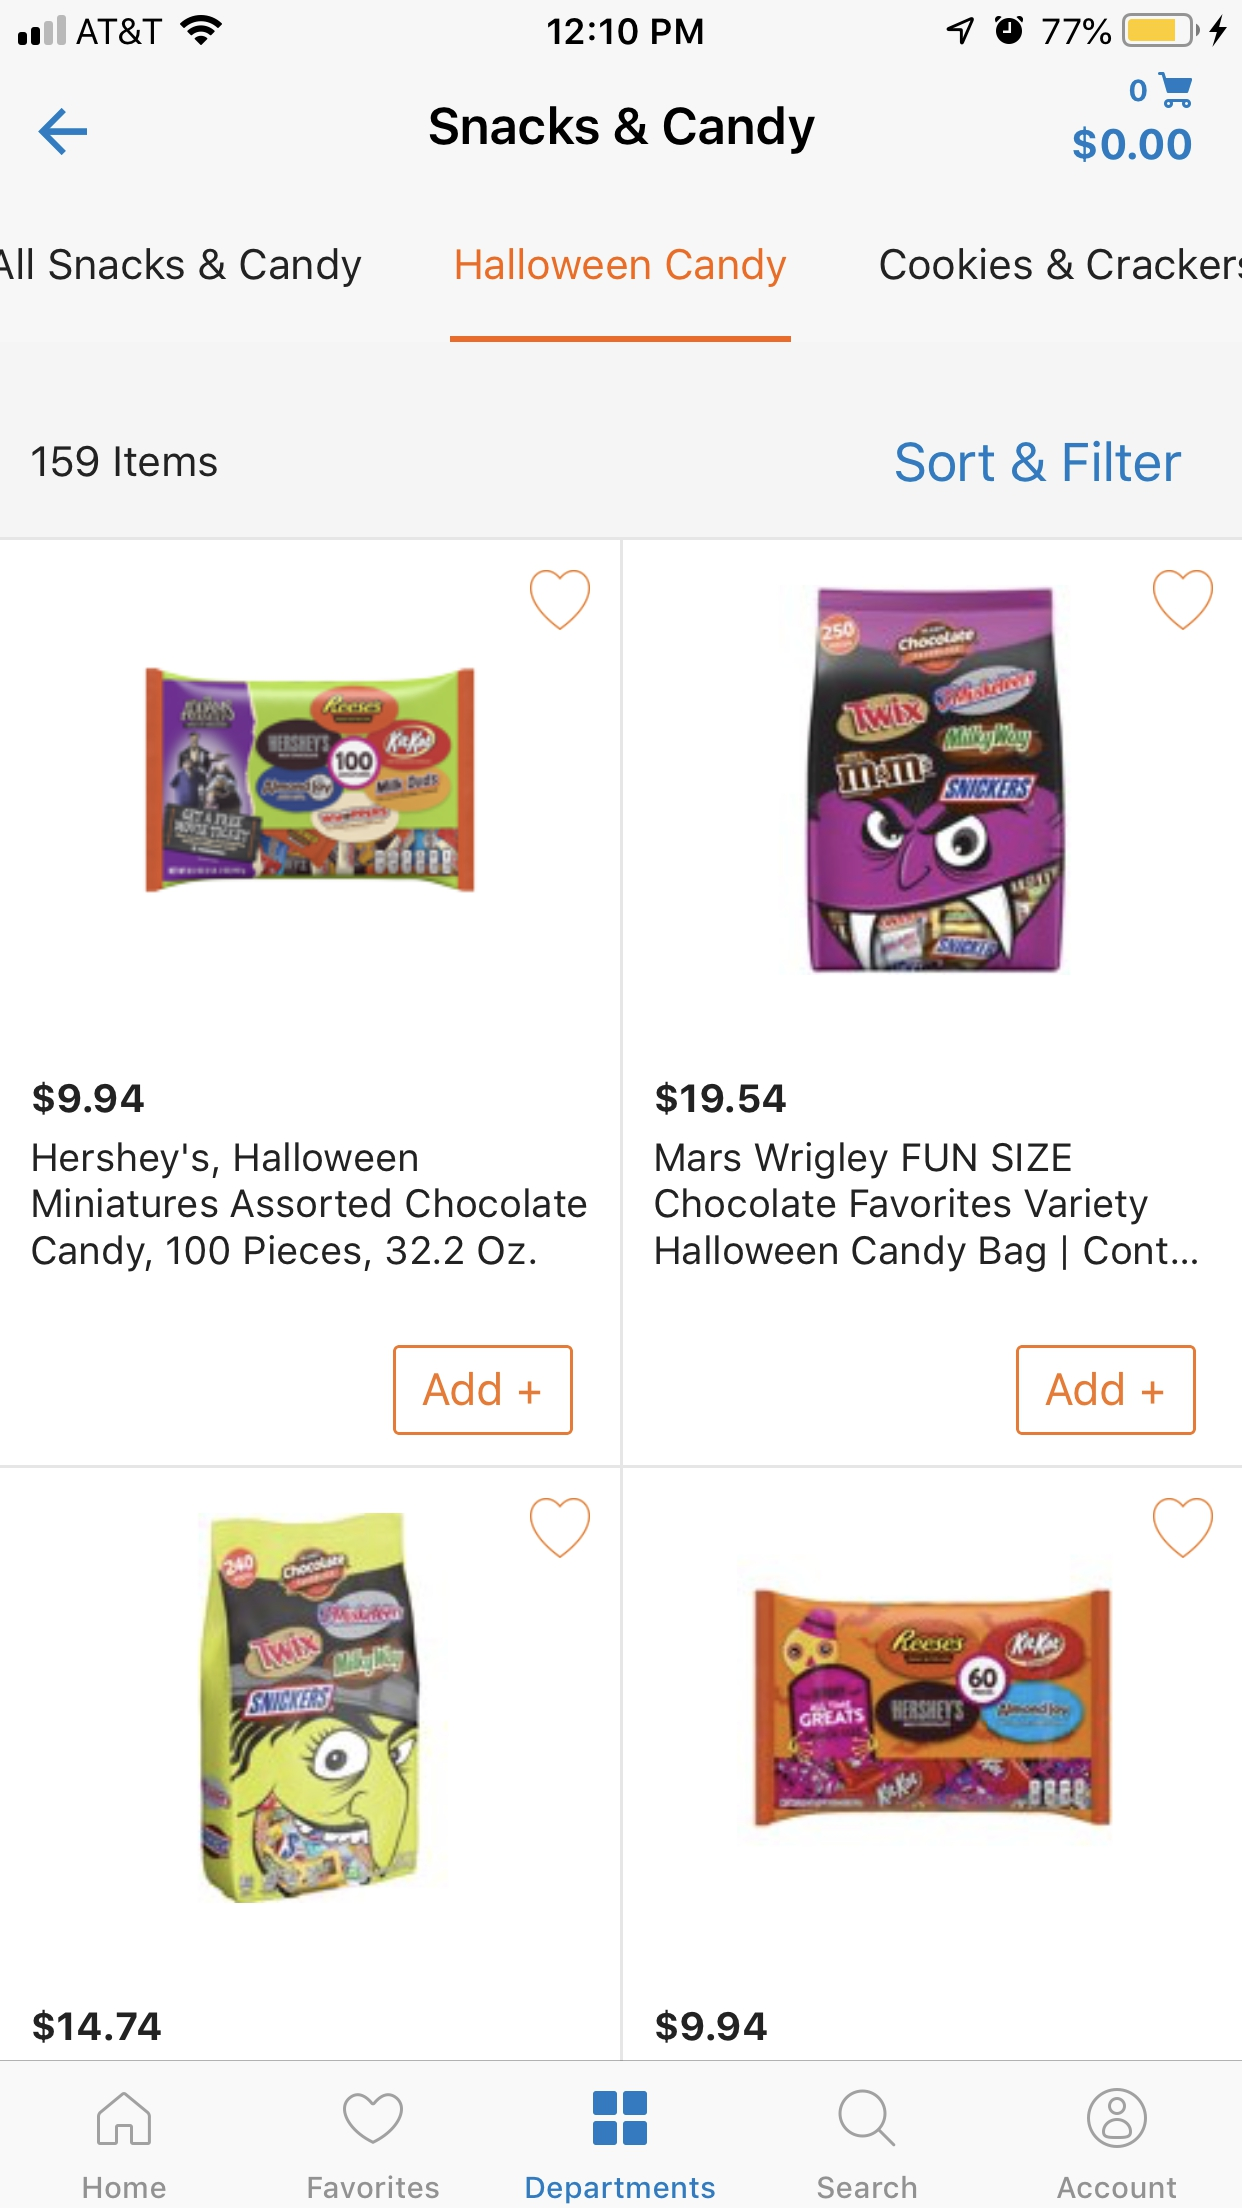Icon: (529, 569, 591, 632), (1153, 1495, 1215, 1559), (1153, 570, 1215, 632), (529, 1497, 591, 1559), (1086, 2087, 1148, 2149), (837, 2088, 896, 2147), (591, 2090, 648, 2146), (343, 2093, 403, 2144), (97, 2093, 153, 2146), (39, 108, 89, 156), (1159, 71, 1193, 111)
Image: (805, 585, 1066, 975), (200, 1512, 422, 1905), (754, 1588, 1113, 1827), (146, 667, 476, 895)
Text: (32, 1140, 588, 1272), (655, 1142, 1200, 1274), (429, 106, 816, 156), (2, 249, 362, 290), (456, 249, 789, 290), (895, 441, 1181, 484), (880, 247, 1242, 281), (32, 444, 218, 479), (526, 2175, 716, 2203), (655, 1081, 789, 1116), (1072, 126, 1192, 164), (33, 2009, 162, 2044), (655, 2008, 767, 2044), (33, 1081, 146, 1116), (308, 2175, 440, 2199), (1055, 2176, 1177, 2200), (817, 2175, 917, 2199), (83, 2176, 167, 2199), (1128, 79, 1146, 103)
TextButton: (391, 1344, 575, 1436), (1016, 1344, 1197, 1436)
UpperTaskBar: (2, 2, 1242, 49)
